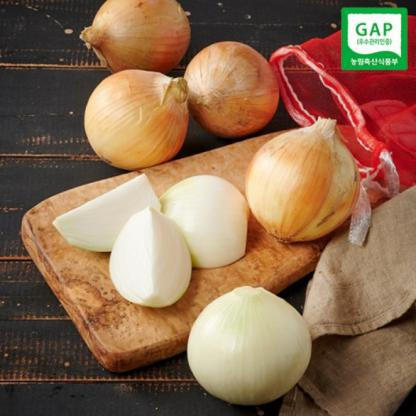onion: (188, 284, 308, 404), (65, 66, 193, 162), (79, 0, 195, 76), (264, 140, 350, 234), (110, 210, 193, 299), (180, 58, 282, 126), (158, 183, 247, 251), (62, 194, 158, 253)
